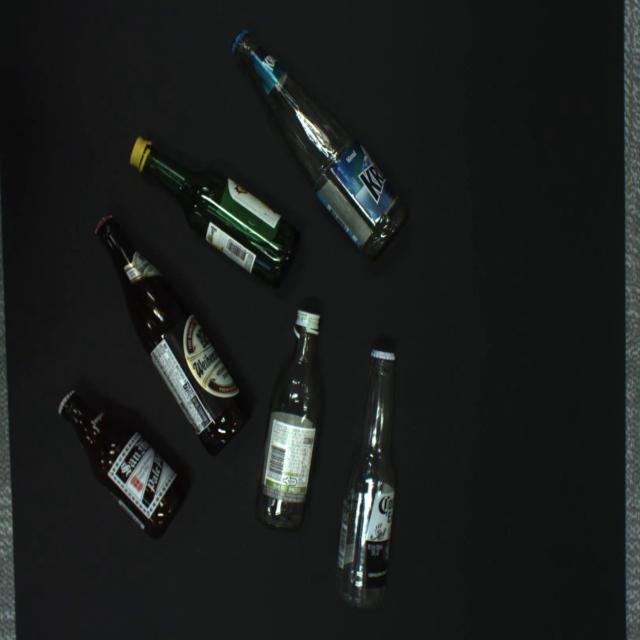beer-bottle: (232, 29, 410, 260), (96, 216, 251, 455), (58, 391, 186, 539), (334, 348, 397, 610)
soju-bottle: (130, 137, 299, 285), (254, 311, 322, 532)
